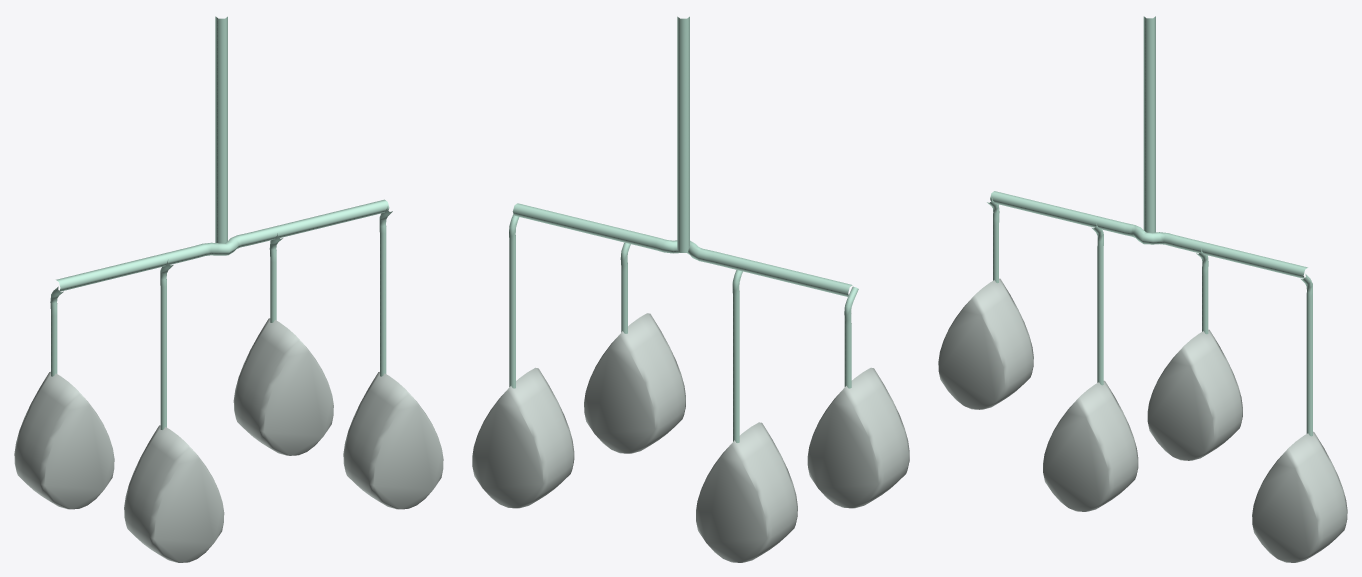
Rendered from decor_4_mint.glb.
The picture shows the model from 3 angles, left to right: view 1: azimuth 30°, elevation 25°; view 2: azimuth 150°, elevation 25°; view 3: azimuth 330°, elevation 25°; orthographic projection. The views are drawn at different scales.
Parts seen in each view (by area): view 1: decor_4_mint; view 2: decor_4_mint; view 3: decor_4_mint.
Part boxes in pixels (x1=…): decor_4_mint: x1=14, y1=16, x2=443, y2=562; decor_4_mint: x1=472, y1=16, x2=909, y2=562; decor_4_mint: x1=938, y1=16, x2=1347, y2=562.
Size of the model in its own units: 7.38 by 9.05 by 0.9537.
